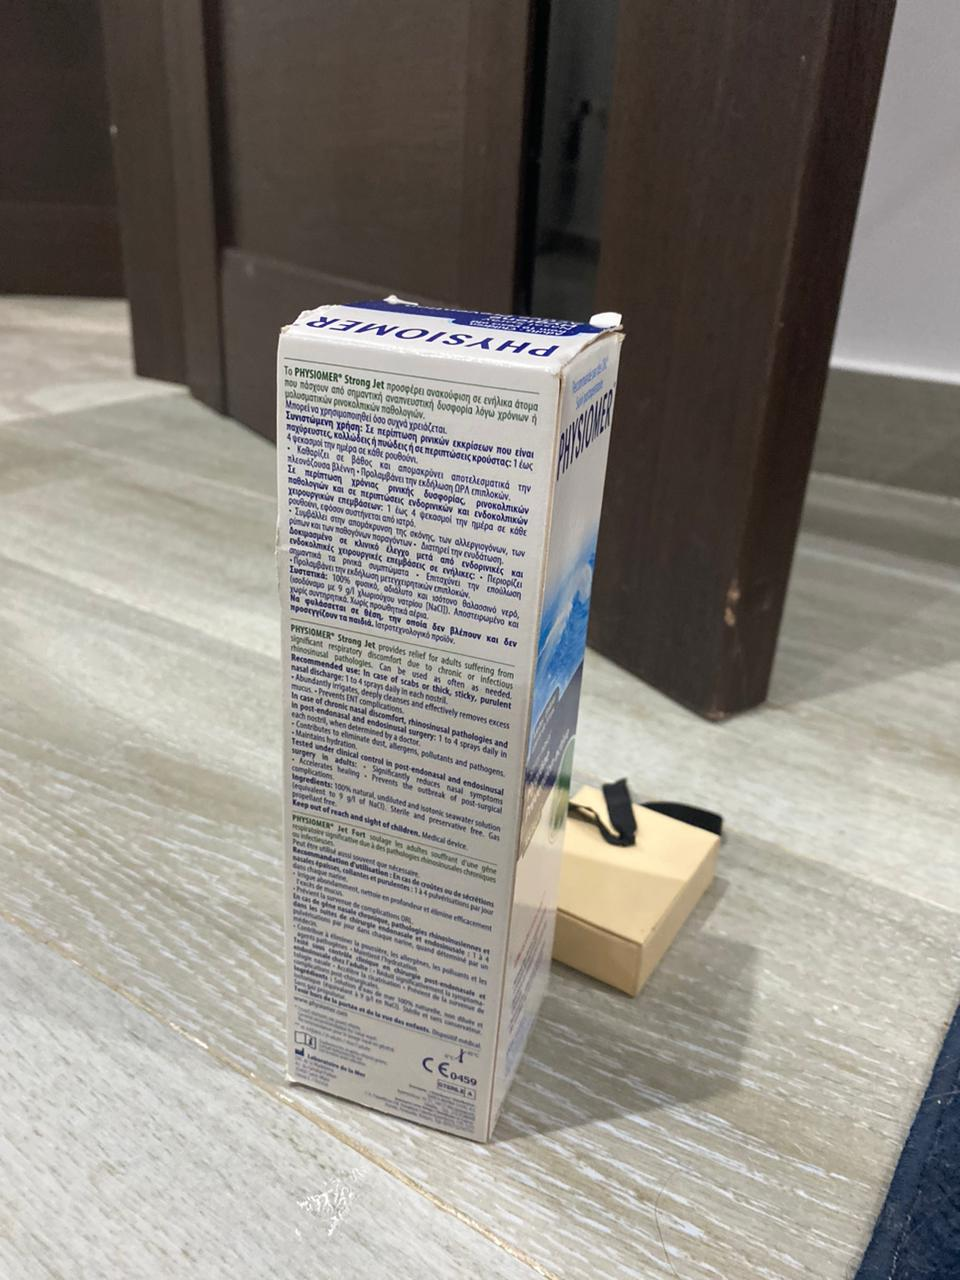Physiomer: (265, 283, 631, 1167)
Yellow Box: (554, 778, 725, 1004)
